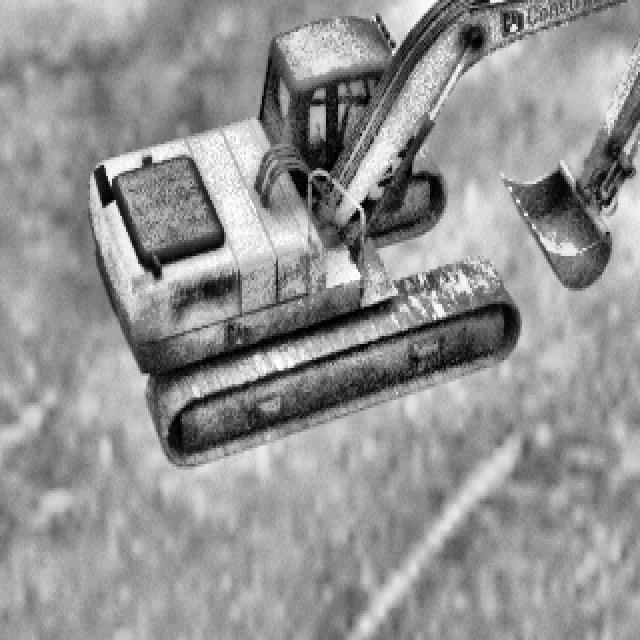excavator: (86, 0, 640, 464)
